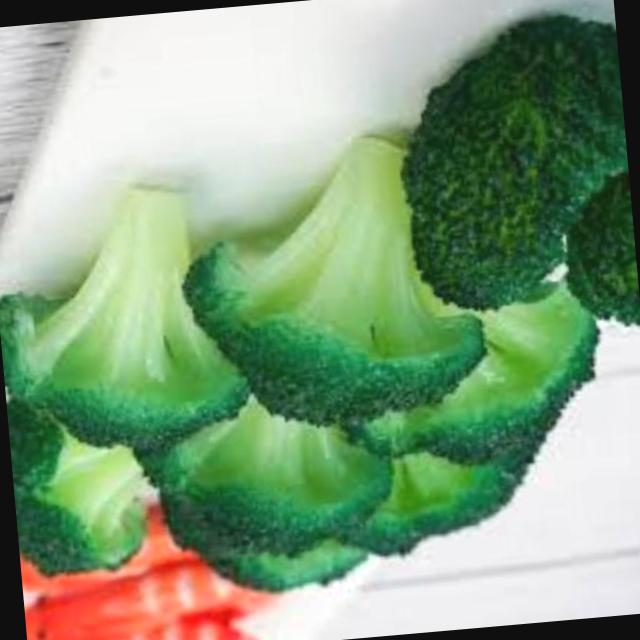Broccoli: (11, 382, 592, 612), (138, 120, 492, 460), (0, 126, 256, 457), (410, 6, 640, 362)
